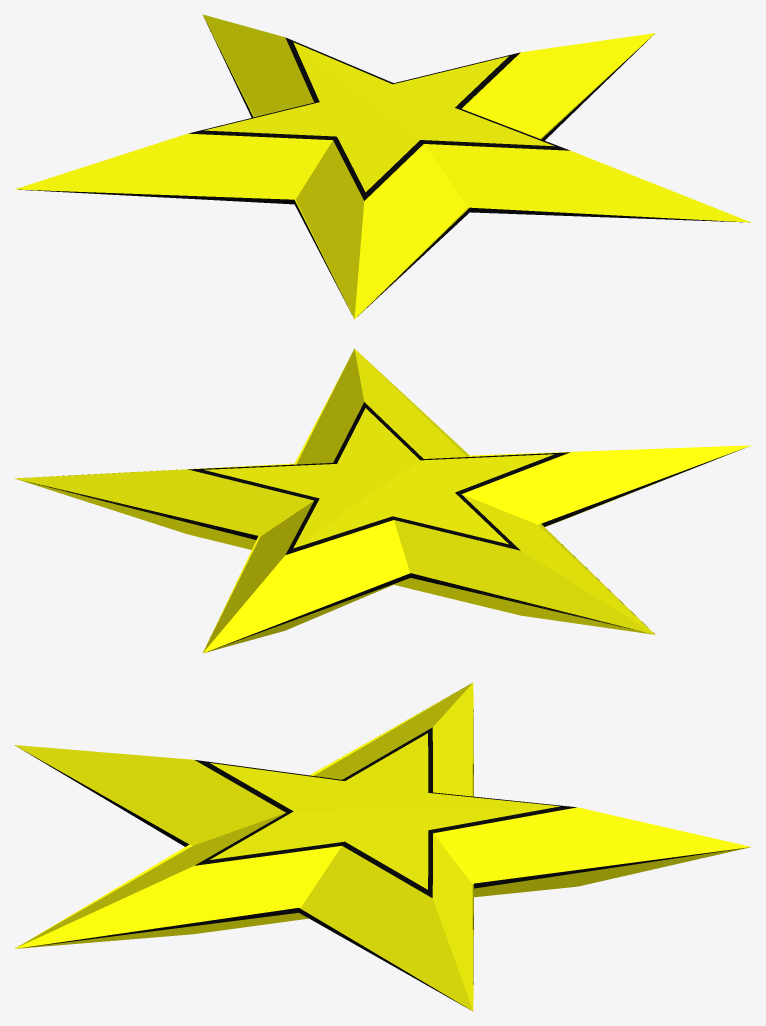
File: Star.fbx
The picture shows the model from 3 angles, top to bottom: view 1: azimuth 30°, elevation 25°; view 2: azimuth 150°, elevation 25°; view 3: azimuth 270°, elevation 25°; orthographic projection. The views are drawn at different scales.
Visible parts, largest first — view 1: Plane; view 2: Plane; view 3: Plane.
Part boxes in pixels (x1,y1,x2,y2): Plane: (14,14,751,319); Plane: (14,348,751,653); Plane: (14,682,750,1011).
Size of the model in its own units: 199 by 22.9 by 188.
